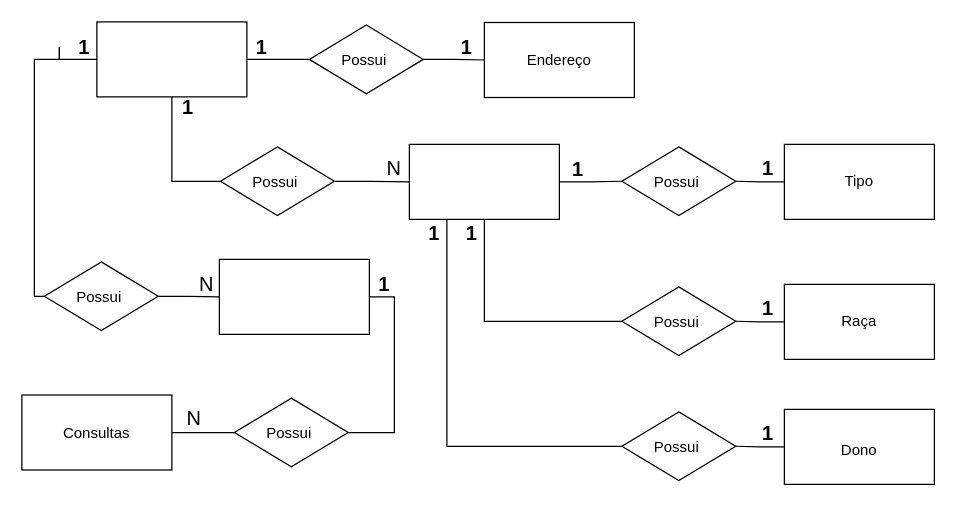
This 956x506 diagram has some shape labels left out. Here are the shapes that lost their labels. From the top down, the centre of each, then its label:
point (171, 59): Clinica
point (483, 181): Pet
point (293, 296): Veterinario
